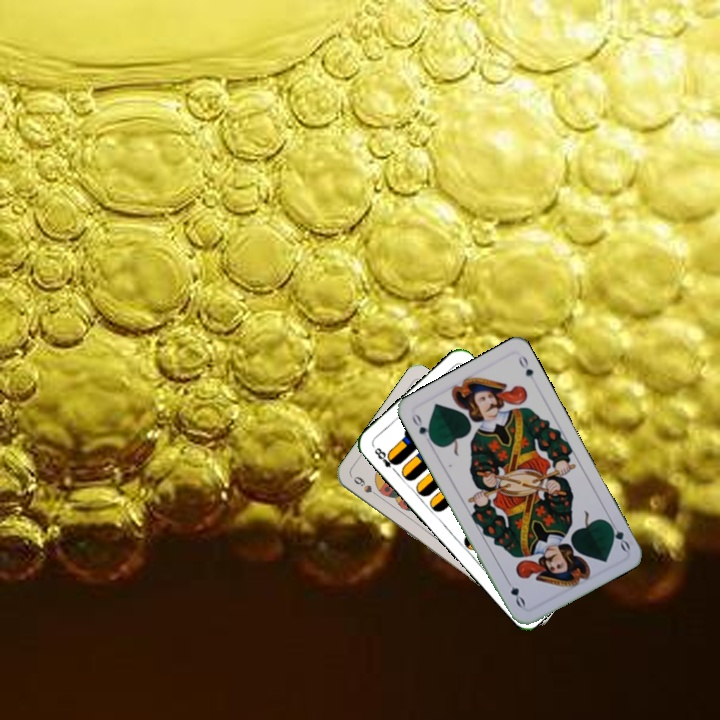E8: (370, 443, 401, 476)
GO: (603, 516, 633, 554), (407, 410, 436, 446)
S9: (349, 472, 384, 501)
